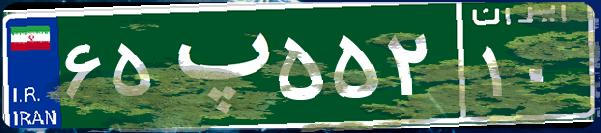0: (525, 38, 570, 115)
1: (475, 38, 525, 113)
2: (385, 28, 445, 110)
5: (273, 28, 330, 110), (330, 28, 385, 110), (110, 28, 158, 105)
6: (57, 26, 110, 107)
پ: (158, 15, 273, 115)
